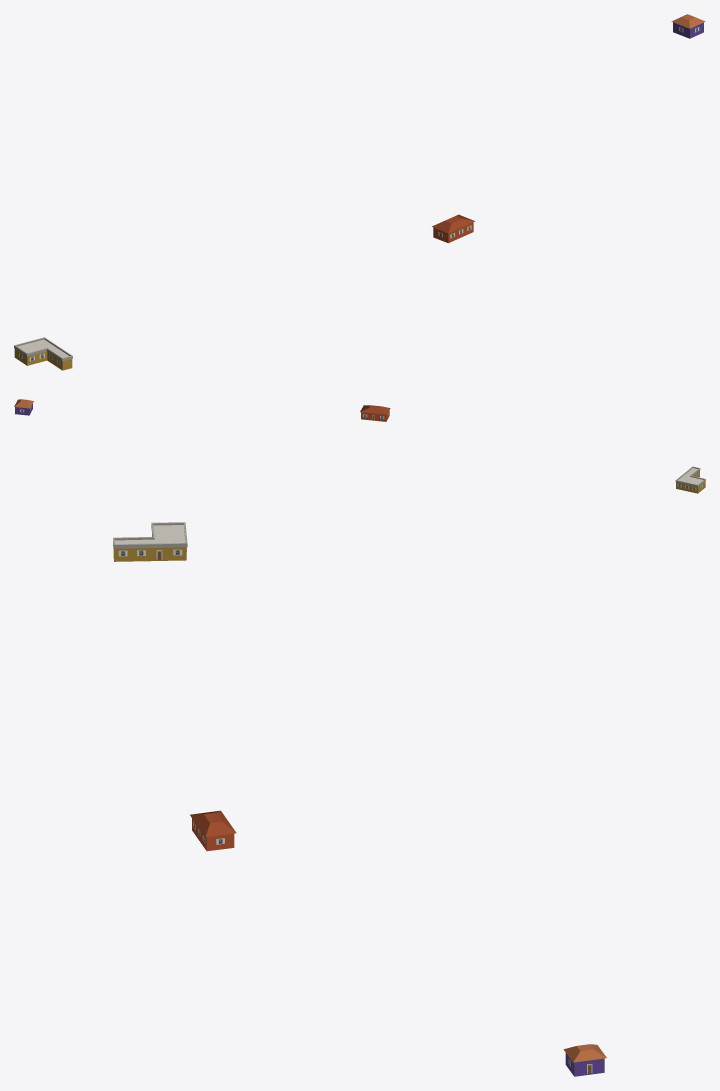
Rendered from msb_noord_m14_m4.glb.
3 views of the same model, one above another, from view 1: azimuth 30°, elevation 25°; view 2: azimuth 150°, elevation 25°; view 3: azimuth 270°, elevation 25° (orthographic). The views are drawn at different scales.
Parts seen in each view (by area): view 1: msb_noord_m14_m4_lod0; view 2: msb_noord_m14_m4_lod0; view 3: msb_noord_m14_m4_lod0.
Part boxes in pixels (bbox=[...]): msb_noord_m14_m4_lod0: bbox=[14, 14, 705, 370]; msb_noord_m14_m4_lod0: bbox=[14, 399, 705, 493]; msb_noord_m14_m4_lod0: bbox=[113, 522, 606, 1076].
Size of what is drawn, in the model's own units: 283 by 12.03 by 104.
3 materials, 1 textured.
